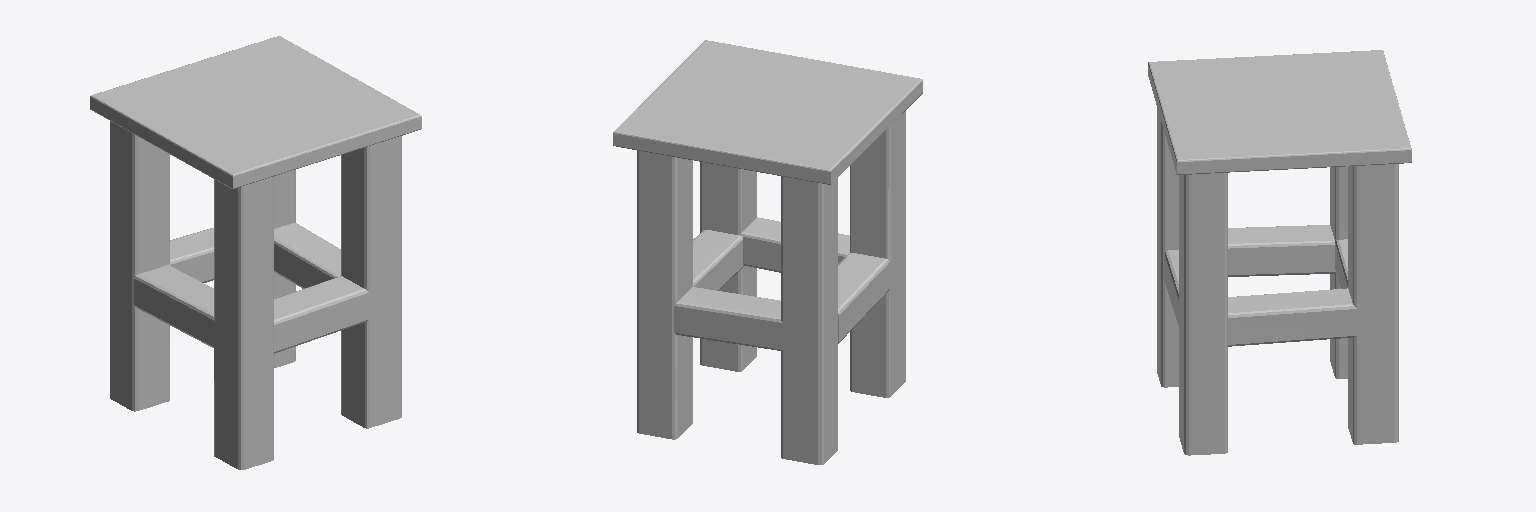
The model's file is BANCO_Curto_MESH.obj.
3 renders of one model, left to right at view 1: azimuth 30°, elevation 25°; view 2: azimuth 150°, elevation 25°; view 3: azimuth 270°, elevation 25°, orthographic.
Visible parts, largest first — view 1: BANCO_Curto_MESH; view 2: BANCO_Curto_MESH; view 3: BANCO_Curto_MESH.
Boxes of the visible parts, box(x1,y1,x2,y2) form: BANCO_Curto_MESH: box(90, 36, 421, 469); BANCO_Curto_MESH: box(613, 40, 922, 464); BANCO_Curto_MESH: box(1148, 50, 1411, 455).
Bounding box in the file's own units: 0.4722 × 0.5958 × 0.4722.